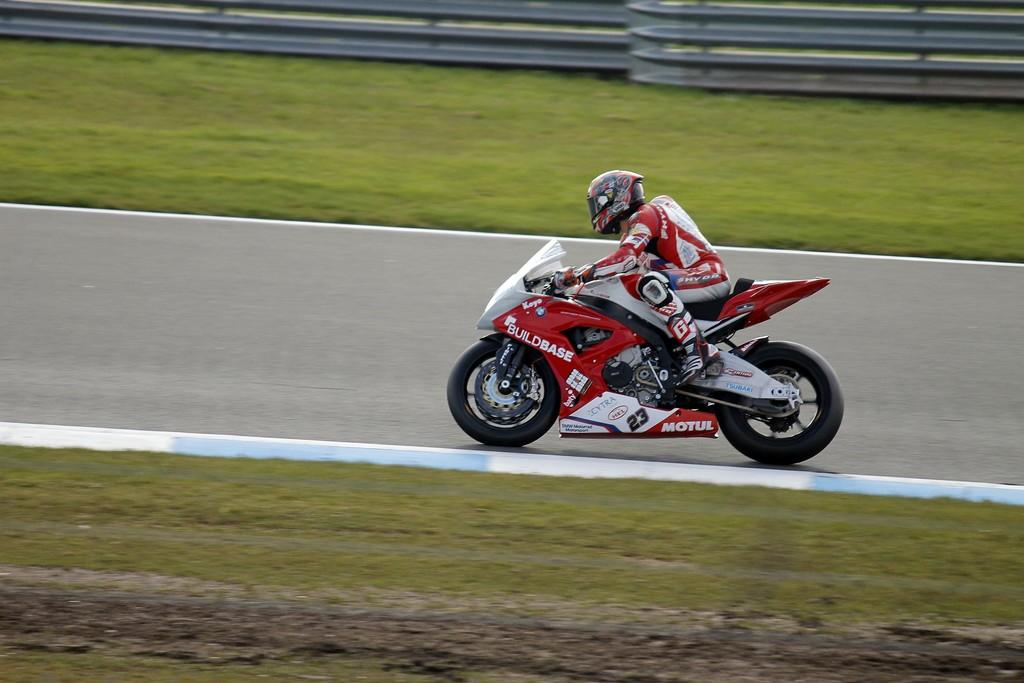helmet: (586, 169, 646, 235)
